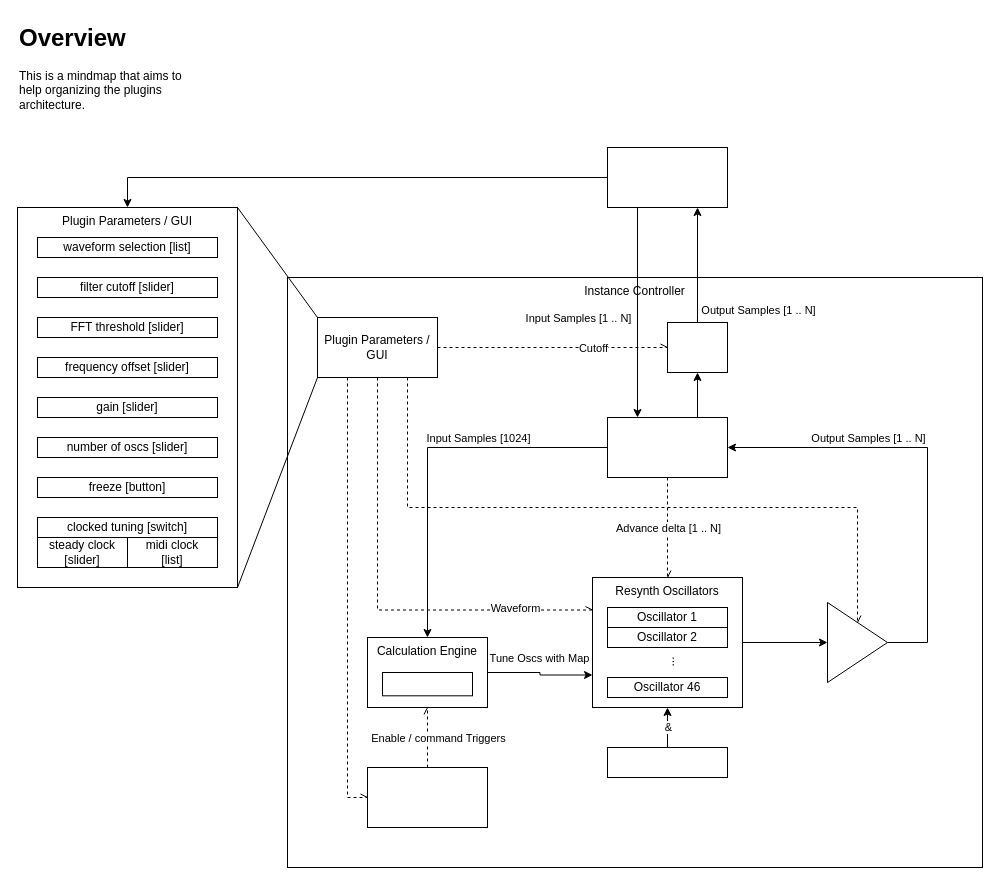
This 1000x885 diagram has some shape labels left out. The shapes that lost their labels are listed below. From the top down, each one's centre as x and y in pixels, then its label:
At point 667,177: "DAW / Juce".
At point 697,347: "Filter".
At point 667,447: "Buffer Manager".
At point 857,642: "Gain".
At point 427,684: "Spectral Map".
At point 667,762: "Wavetables".
At point 427,797: "Trigger Manager".
